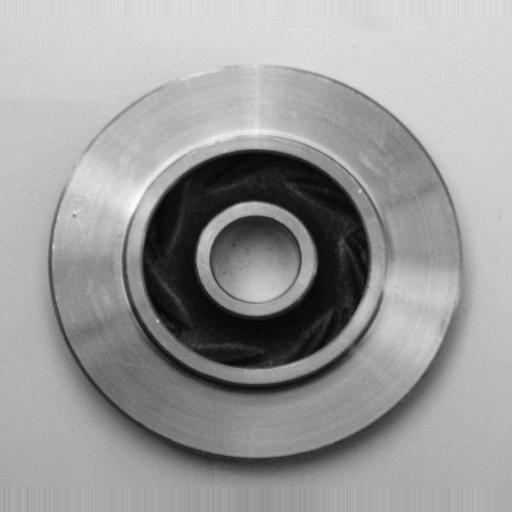unpolished_casting: (50, 57, 466, 467)
